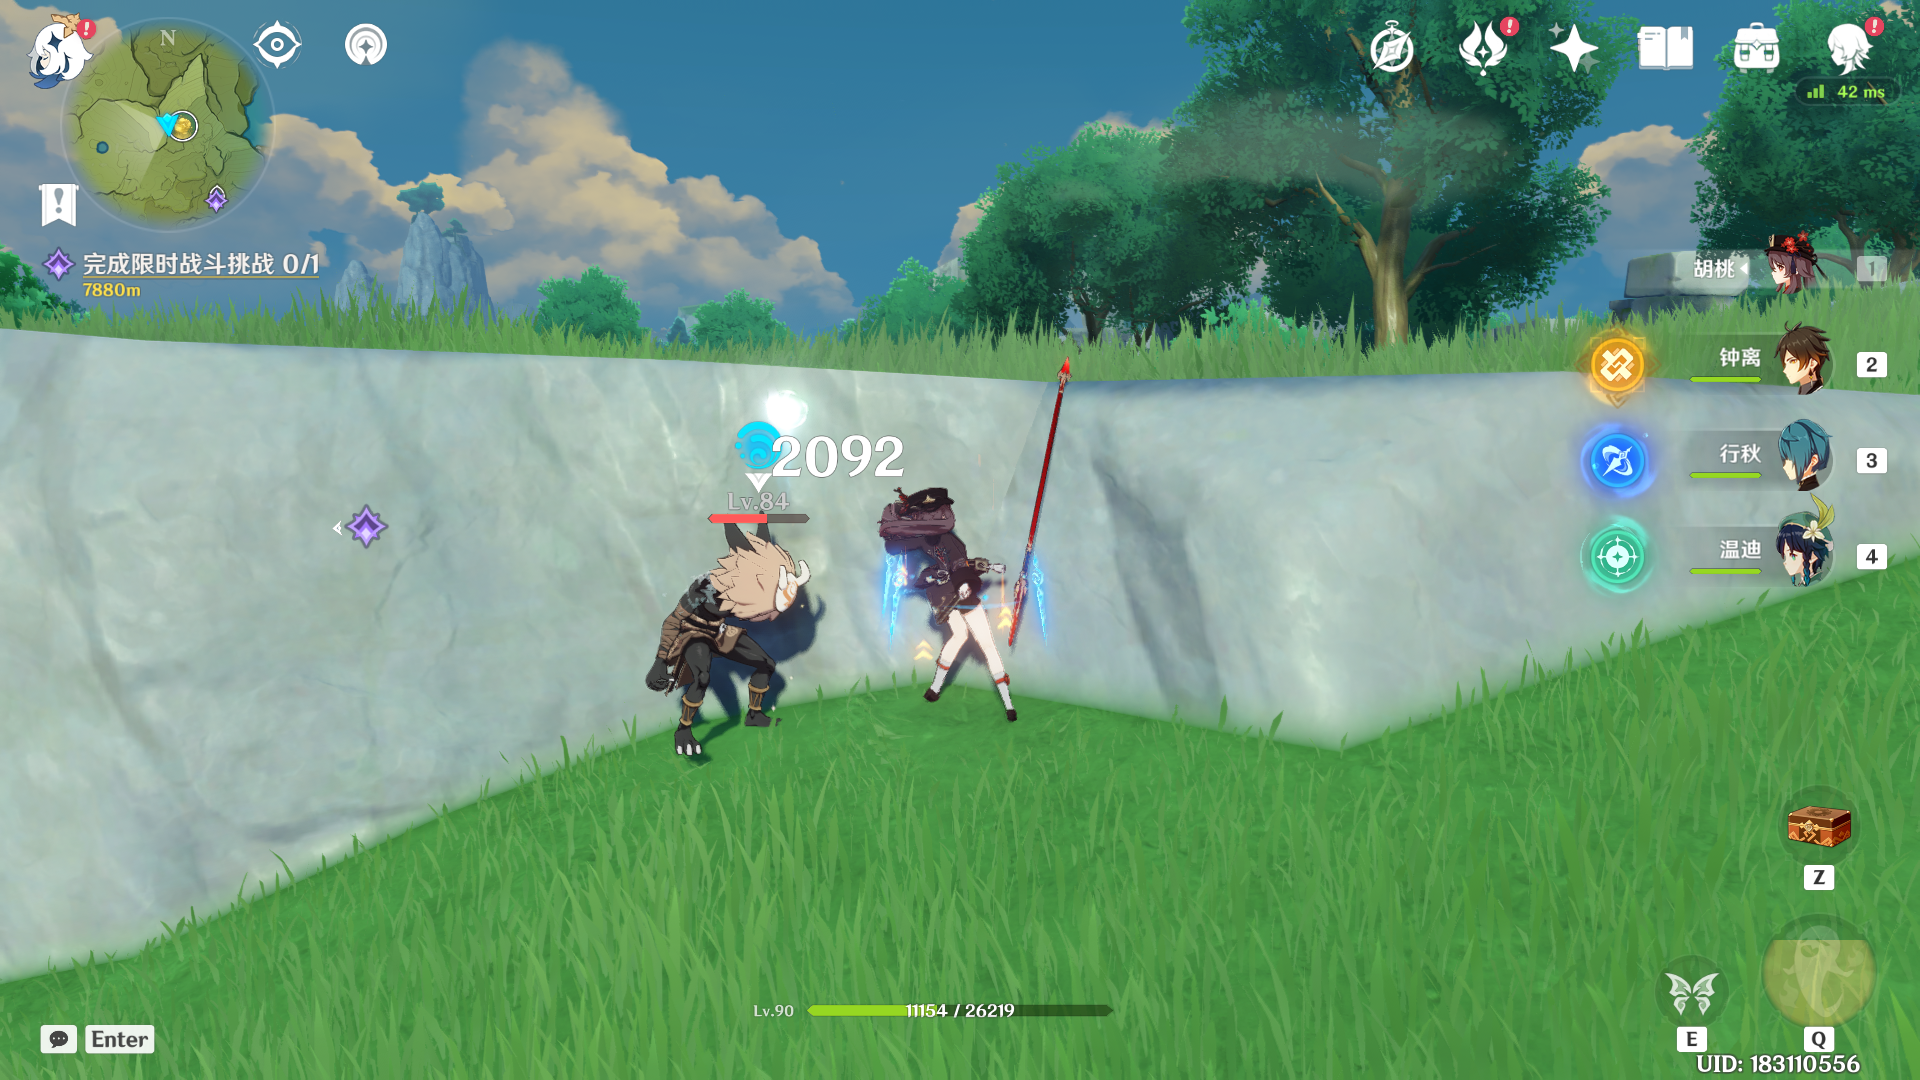character: (865, 439, 1068, 732)
hili: (605, 489, 907, 810)
